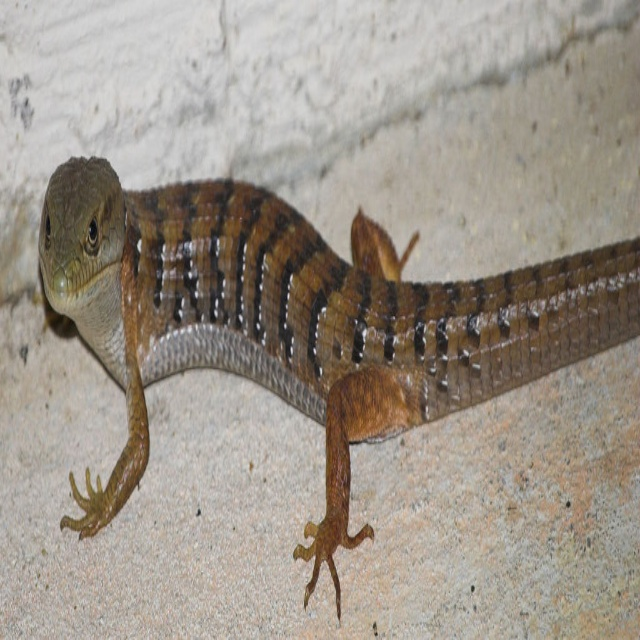Lizard: (39, 183, 640, 619)
